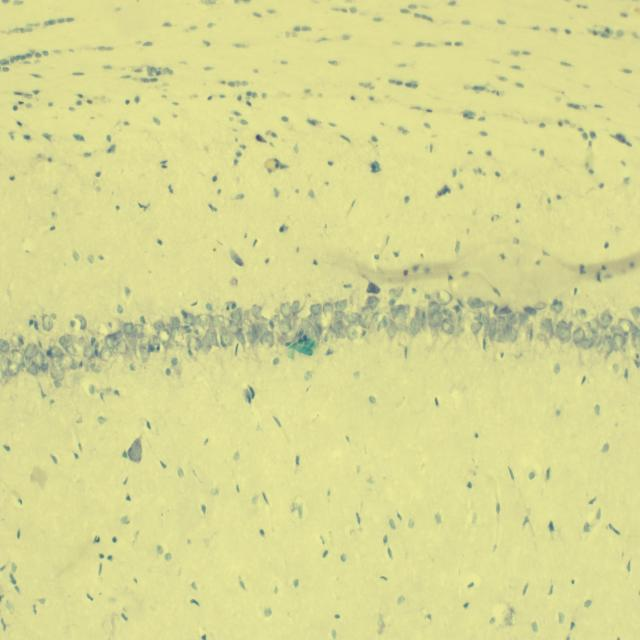neuron: (556, 320, 572, 344), (539, 317, 554, 342), (345, 324, 364, 342), (609, 326, 629, 343), (202, 328, 213, 356), (298, 314, 313, 333), (612, 333, 626, 353), (208, 323, 219, 348), (415, 306, 428, 327), (260, 331, 274, 350), (437, 290, 453, 306), (428, 312, 443, 329), (316, 312, 330, 330), (385, 318, 397, 339), (467, 296, 485, 310), (278, 316, 291, 335), (72, 314, 87, 330), (598, 313, 613, 329), (394, 306, 406, 326), (10, 348, 24, 365), (441, 318, 455, 335), (572, 328, 585, 346), (631, 326, 640, 351), (7, 360, 21, 376), (47, 345, 63, 359), (495, 330, 509, 346), (617, 318, 633, 332), (60, 334, 77, 347), (241, 318, 254, 335), (256, 322, 269, 339), (358, 314, 371, 331), (188, 336, 198, 358), (247, 324, 258, 344), (310, 325, 320, 347), (42, 314, 54, 332), (332, 320, 344, 338), (588, 317, 600, 335), (602, 336, 614, 354), (9, 333, 23, 348), (124, 331, 138, 346), (220, 327, 230, 348), (60, 354, 73, 370), (158, 328, 171, 344), (172, 327, 184, 344), (410, 316, 420, 336), (488, 320, 498, 340), (558, 327, 572, 341), (496, 316, 509, 331), (100, 346, 112, 362), (183, 311, 195, 327), (35, 349, 44, 370), (226, 320, 239, 334), (366, 296, 379, 310), (470, 321, 483, 335), (0, 353, 9, 373), (518, 311, 530, 326), (24, 343, 35, 359), (280, 302, 291, 318), (349, 288, 360, 304), (630, 307, 640, 324), (550, 301, 563, 314), (26, 361, 38, 375), (195, 313, 207, 327), (140, 334, 151, 349), (236, 330, 247, 345), (323, 302, 334, 317), (227, 330, 236, 348), (118, 339, 128, 355), (211, 315, 224, 327), (230, 308, 243, 320), (361, 305, 373, 318), (574, 308, 586, 321), (105, 334, 116, 348), (169, 316, 180, 330), (334, 299, 348, 310), (0, 372, 10, 387), (310, 303, 322, 315), (536, 333, 548, 345), (581, 337, 593, 349), (0, 338, 10, 352), (56, 368, 66, 382), (344, 313, 358, 323), (65, 344, 76, 356), (83, 346, 94, 358), (133, 324, 144, 336), (251, 305, 262, 317), (506, 313, 517, 325), (89, 364, 102, 374), (427, 302, 440, 312), (534, 301, 547, 311), (509, 327, 517, 342), (153, 321, 166, 330), (291, 300, 299, 314), (482, 314, 490, 328), (52, 357, 62, 368), (140, 351, 150, 362), (333, 310, 344, 320), (124, 322, 133, 334), (152, 335, 161, 347), (351, 304, 358, 319), (49, 337, 56, 351), (50, 367, 58, 379), (114, 330, 124, 339), (59, 336, 67, 347), (148, 338, 154, 352), (112, 344, 120, 354), (196, 338, 202, 351), (71, 358, 78, 369), (78, 337, 85, 348), (88, 383, 95, 394), (277, 335, 284, 346), (42, 361, 48, 373), (54, 379, 62, 388), (388, 298, 396, 307), (381, 316, 388, 326), (117, 305, 124, 314), (84, 363, 90, 372), (185, 328, 192, 335), (324, 332, 328, 344)
